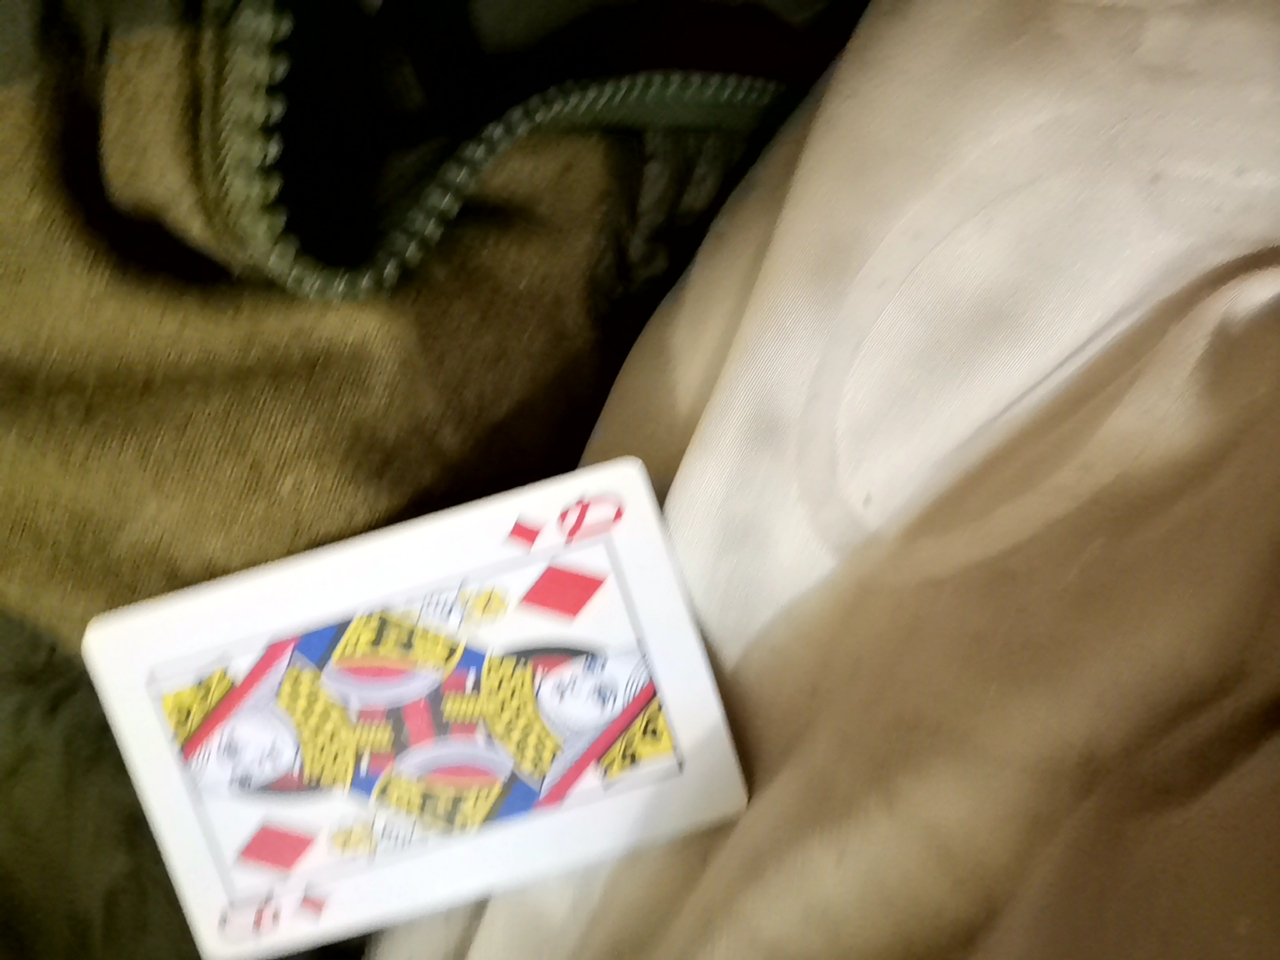fk q: (80, 495, 716, 957)
